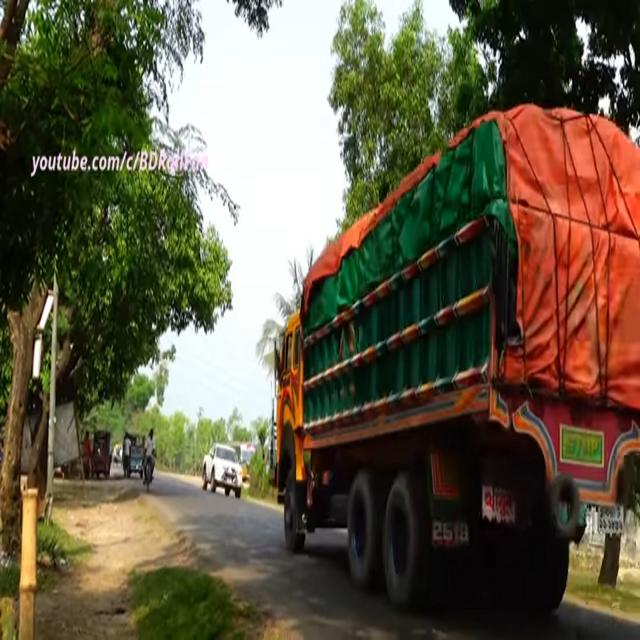car: (192, 439, 244, 498)
truck: (267, 65, 640, 621)
